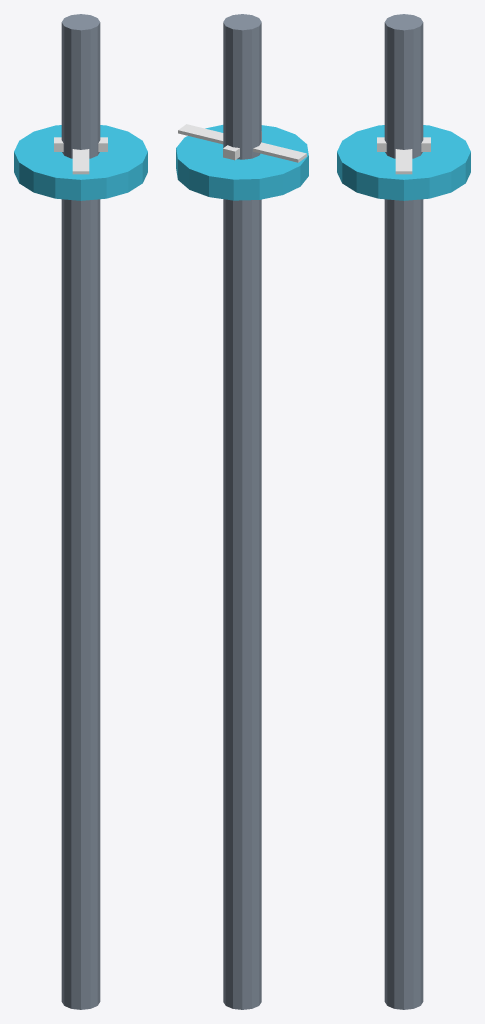
File: HR-125-ASM_public_shell.glb
3 renders of one model, left to right at view 1: azimuth 90°, elevation 25°; view 2: azimuth 150°, elevation 25°; view 3: azimuth 270°, elevation 25°, orthographic.
Visible parts, largest first — view 1: HR-125-MST-01 | Modular CFRP Lattice Spine and Base, HR-125-NST-02 | Elevated Inductive Drone Landing Pad, DA-ORB-03 | D&A ORB-GLIDER Long-Endurance Airframe; view 2: HR-125-MST-01 | Modular CFRP Lattice Spine and Base, HR-125-NST-02 | Elevated Inductive Drone Landing Pad, DA-ORB-03 | D&A ORB-GLIDER Long-Endurance Airframe; view 3: HR-125-MST-01 | Modular CFRP Lattice Spine and Base, HR-125-NST-02 | Elevated Inductive Drone Landing Pad, DA-ORB-03 | D&A ORB-GLIDER Long-Endurance Airframe.
Boxes of the visible parts, x1,y1,x2,y2 form: HR-125-MST-01 | Modular CFRP Lattice Spine and Base: [61, 14, 100, 1009]; HR-125-NST-02 | Elevated Inductive Drone Landing Pad: [14, 125, 147, 200]; DA-ORB-03 | D&A ORB-GLIDER Long-Endurance Airframe: [54, 137, 107, 174]; HR-125-MST-01 | Modular CFRP Lattice Spine and Base: [223, 14, 261, 1009]; HR-125-NST-02 | Elevated Inductive Drone Landing Pad: [176, 125, 308, 200]; DA-ORB-03 | D&A ORB-GLIDER Long-Endurance Airframe: [178, 124, 306, 162]; HR-125-MST-01 | Modular CFRP Lattice Spine and Base: [384, 14, 423, 1009]; HR-125-NST-02 | Elevated Inductive Drone Landing Pad: [337, 125, 470, 200]; DA-ORB-03 | D&A ORB-GLIDER Long-Endurance Airframe: [377, 137, 430, 174].
Bounding box in the file's own units: 5.4 × 42 × 5.2.
